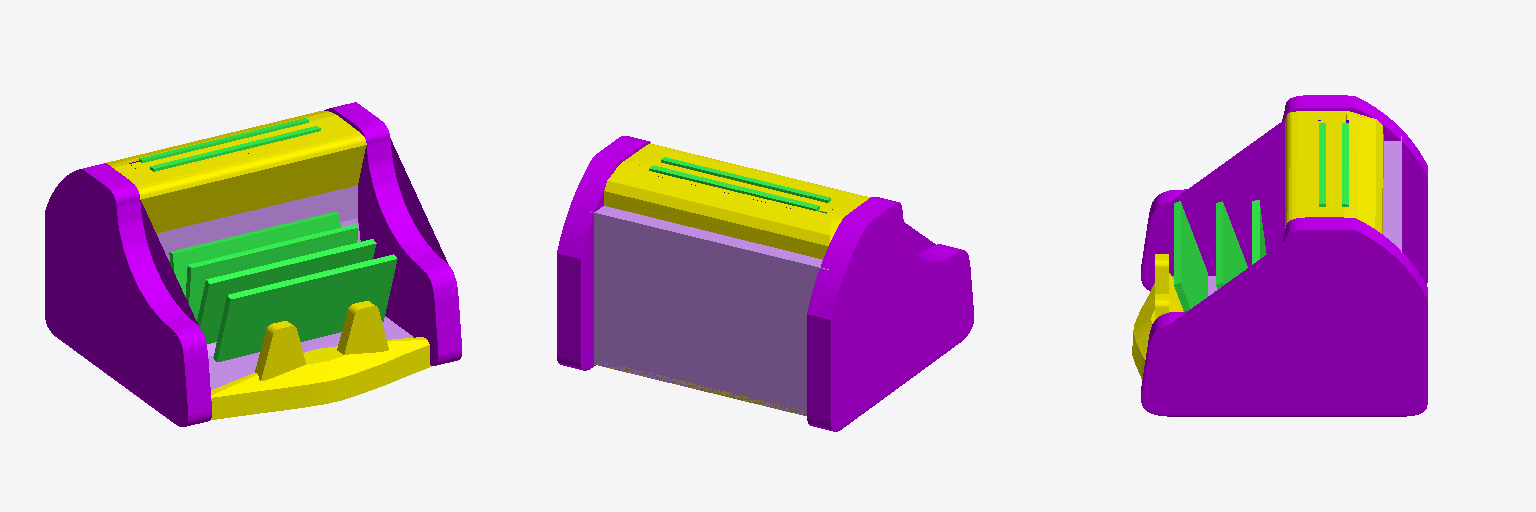
The model's file is 1801-moneymachine_4.obj.
3 views of the same model, side by side, from view 1: azimuth 30°, elevation 25°; view 2: azimuth 150°, elevation 25°; view 3: azimuth 270°, elevation 25° (orthographic).
Parts seen in each view (by area): view 1: Cube.055_Material.003, Cube.055_Material.018, Cube.055_Material.002, Cube.055_Material.013; view 2: Cube.055_Material.003, Cube.055_Material.013, Cube.055_Material.018, Cube.055_Material.002; view 3: Cube.055_Material.003, Cube.055_Material.018, Cube.055_Material.002, Cube.055_Material.013.
Part boxes in pixels (x1,y1,x2,y2): Cube.055_Material.003: (45, 102, 461, 426); Cube.055_Material.018: (99, 111, 431, 419); Cube.055_Material.002: (139, 118, 397, 361); Cube.055_Material.013: (156, 185, 413, 389); Cube.055_Material.003: (557, 136, 973, 431); Cube.055_Material.013: (590, 206, 828, 415); Cube.055_Material.018: (604, 143, 870, 259); Cube.055_Material.002: (649, 157, 830, 213); Cube.055_Material.003: (1141, 95, 1427, 416); Cube.055_Material.018: (1132, 111, 1383, 379); Cube.055_Material.002: (1174, 123, 1348, 311); Cube.055_Material.013: (1172, 136, 1401, 295).
Size of the model in its own units: 14.73 by 9.61 by 13.73.